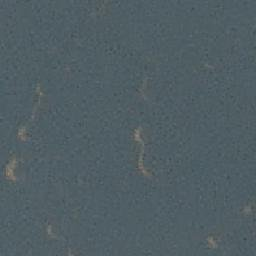debris: (130, 128, 152, 179), (5, 152, 18, 184), (31, 86, 45, 109), (16, 124, 28, 144), (204, 236, 219, 250)
